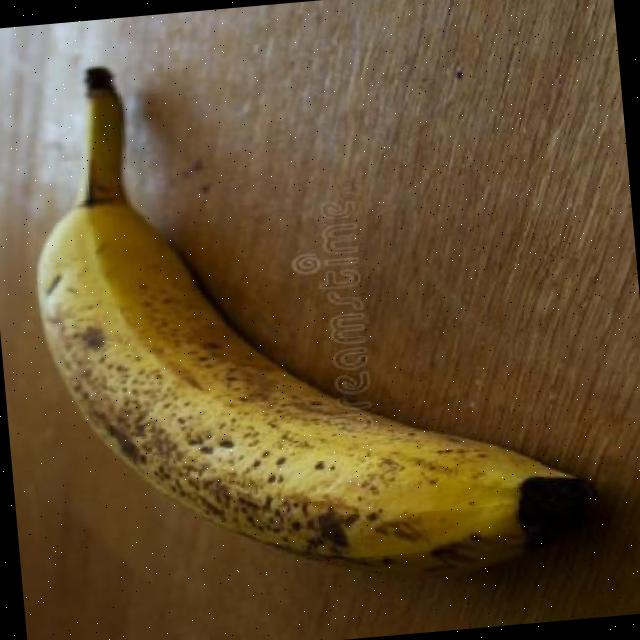banana: (37, 65, 593, 576)
